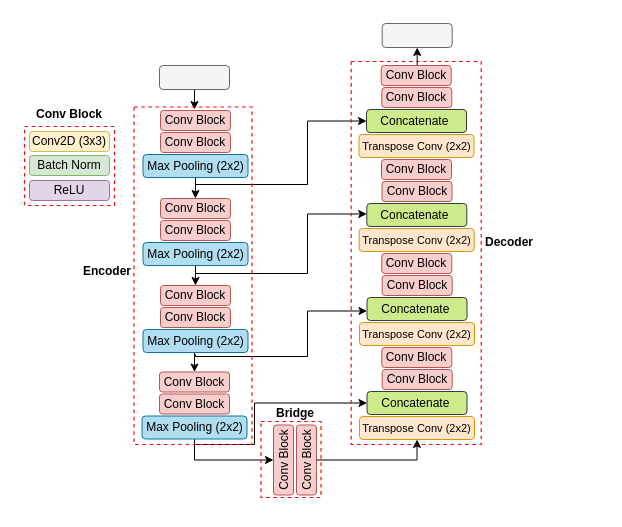
The diagram is 622 pixels wide and 527 high, and some of its shapes have lost their labels. Each missing label, with the centre of its shape:
"Input" belongs at point 194,77.
"Output" belongs at point 416,35.
